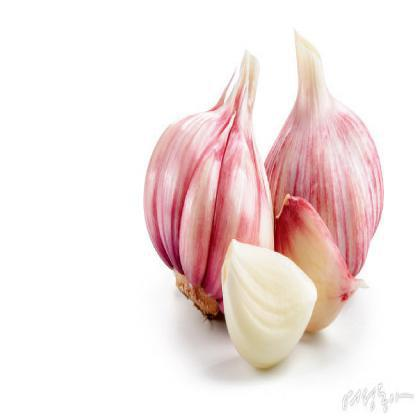garlic: (132, 44, 276, 330), (260, 28, 384, 286), (216, 232, 316, 389), (275, 188, 350, 348)
